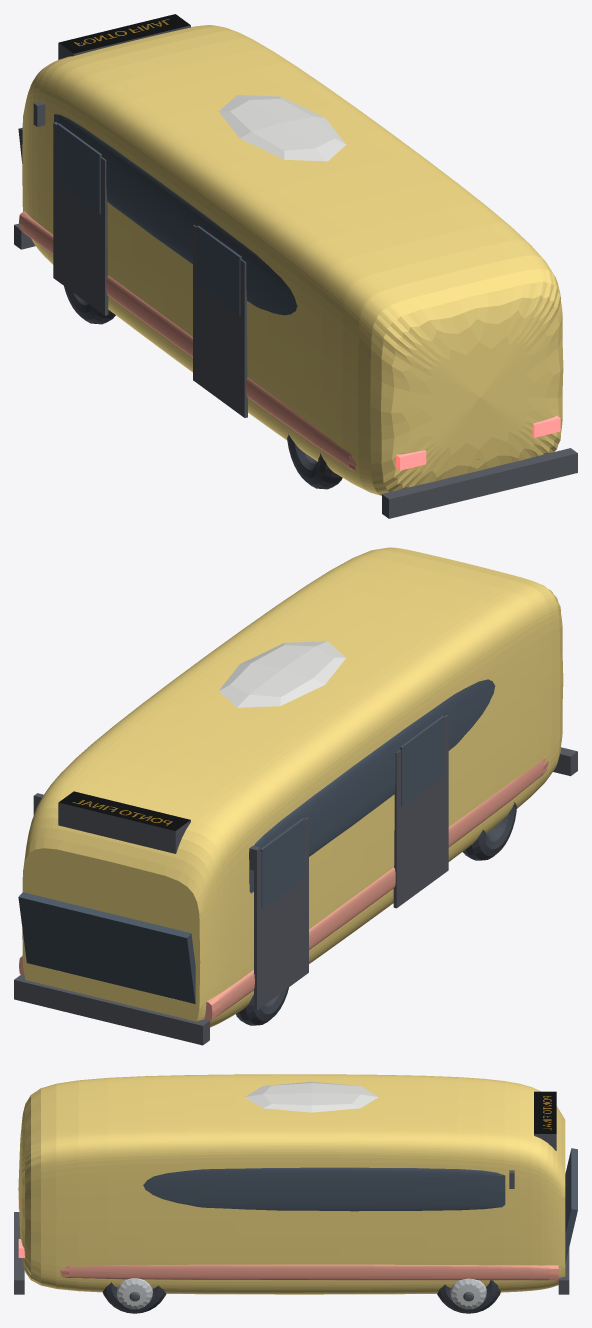
The model's file is onibus.glb.
3 renders of one model, top to bottom at view 1: azimuth 30°, elevation 25°; view 2: azimuth 150°, elevation 25°; view 3: azimuth 270°, elevation 25°, orthographic. The views are drawn at different scales.
Visible parts, largest first — view 1: Onibus, BusWheelRL, BusWheelFL; view 2: Onibus, BusWheelRL, BusWheelFL; view 3: Onibus, BusWheelFR, BusWheelRR.
Part boxes in pixels (x1,y1,x2,y2): Onibus: (14,14,577,518); BusWheelRL: (287,434,342,489); BusWheelFL: (64,286,115,324); Onibus: (14,547,577,1045); BusWheelRL: (463,802,516,860); BusWheelFL: (236,987,288,1025); Onibus: (14,1074,577,1294); BusWheelFR: (437,1278,500,1313); BusWheelRR: (102,1278,166,1313).
Size of the model in its own units: 2.86 by 3.13 by 8.45.
11 materials, 1 textured.
